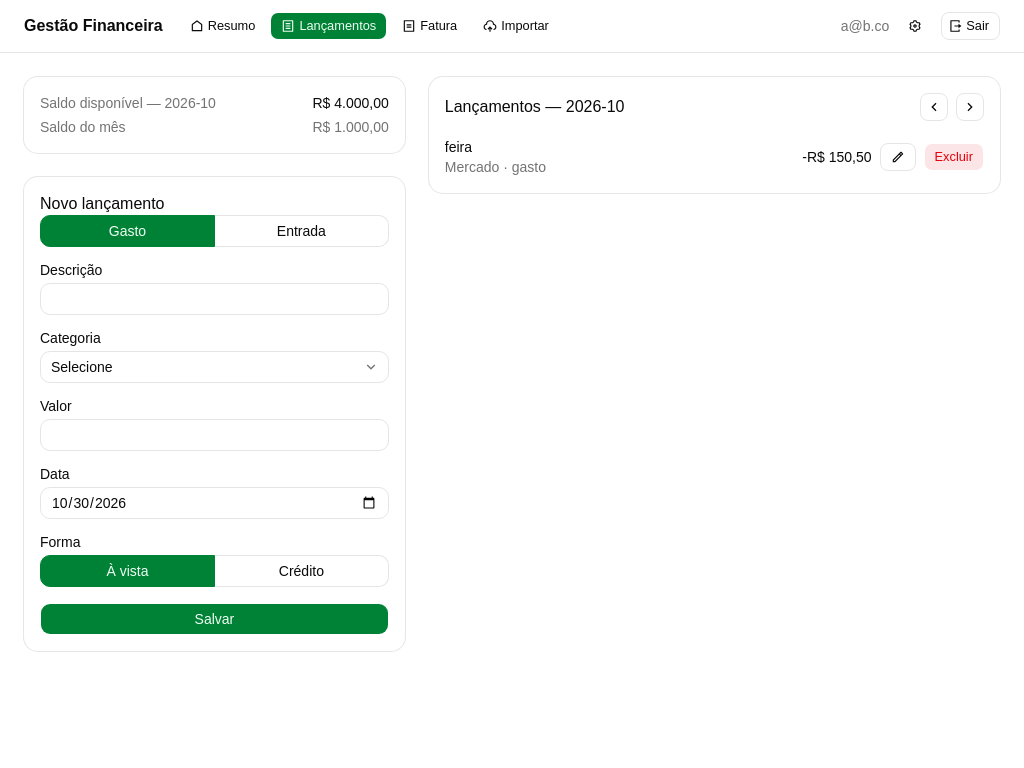
Test: EntryScreen › a edição › o lápis carrega o lançamento no formulário
Click the button named "Editar feira" at (898,157), box [880,143,916,171]
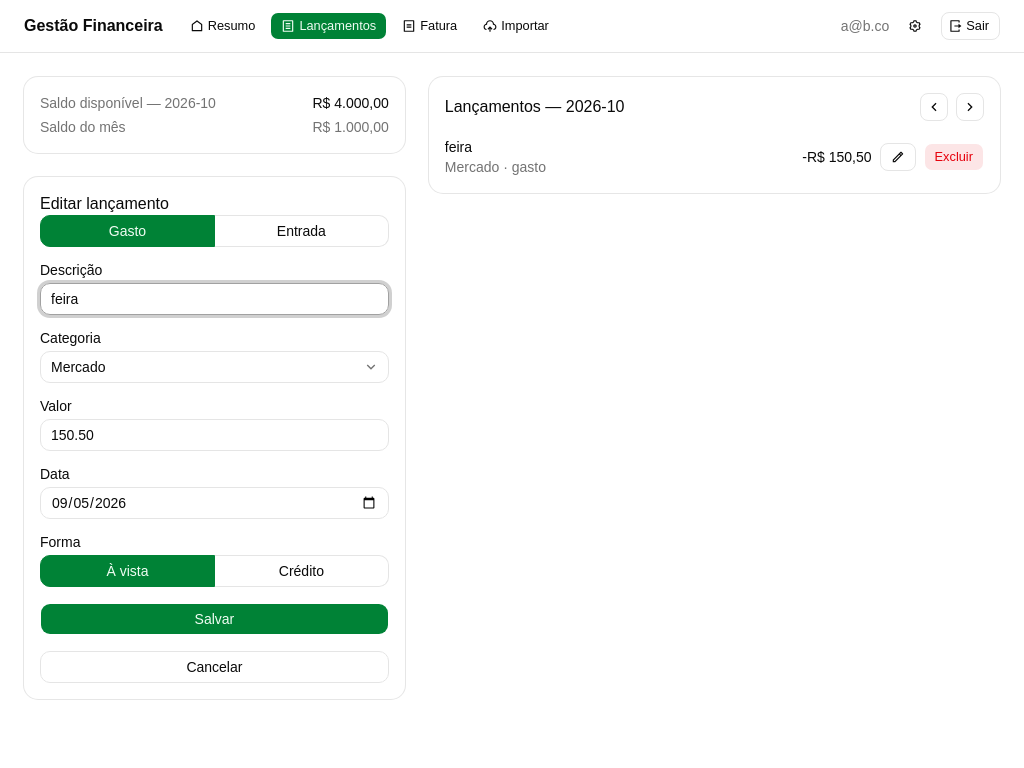
Check: the text "Editar lançamento" is shown, box [40,195,169,212]
Check: the field labelled "Descrição" holds "feira", box [40,283,389,315]
Check: the dropdown labelled "Categoria" shows "Mercado", box [40,351,389,383]
